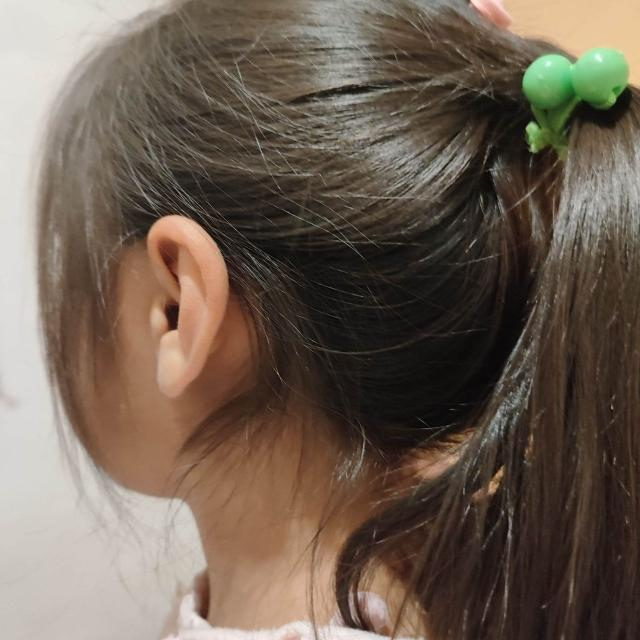ear: (148, 215, 230, 398)
